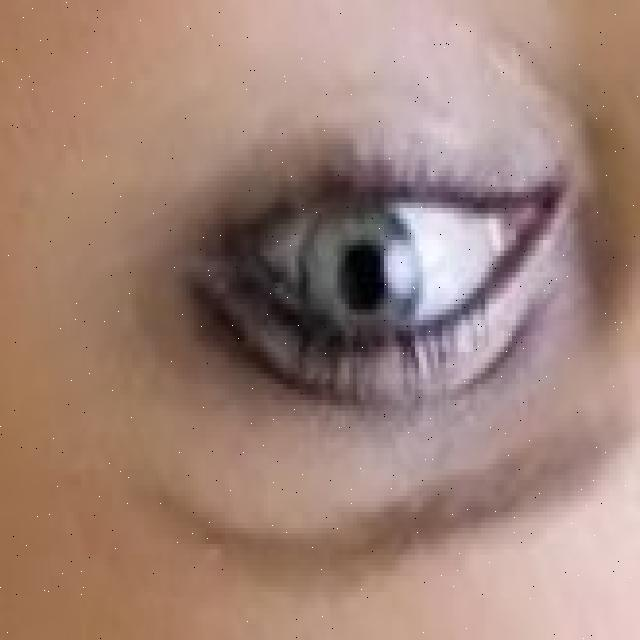Normal: (300, 188, 420, 354)
